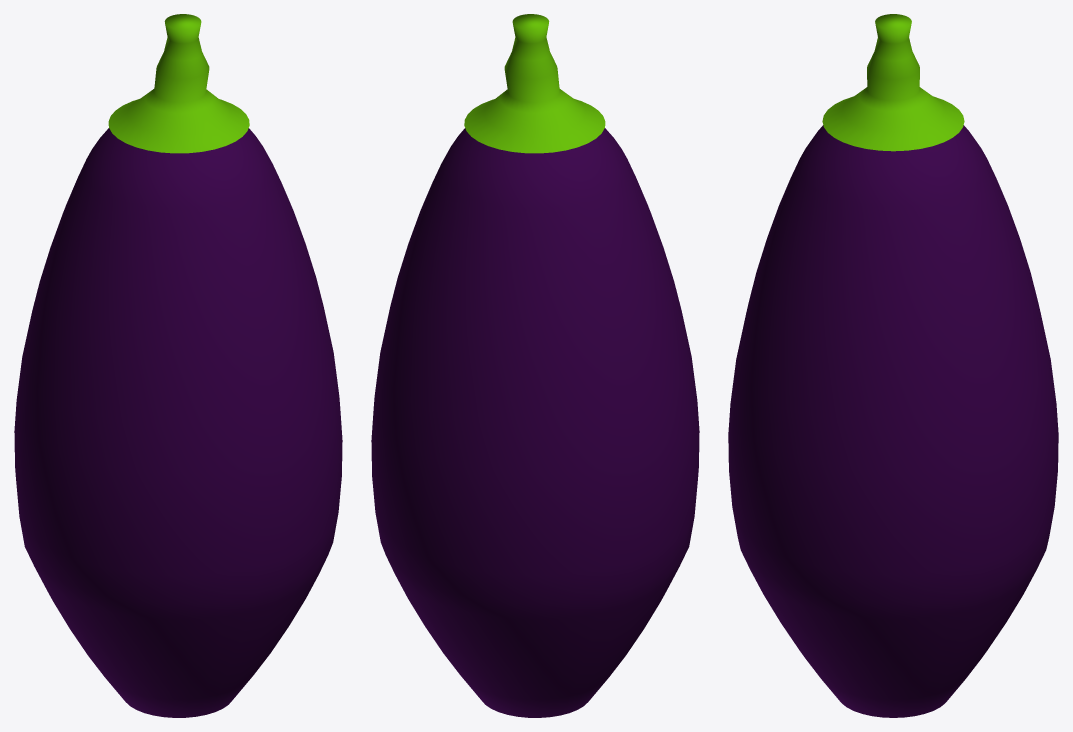
Rendered from Aubergine.fbx.
3 renders of one model, left to right at view 1: azimuth 30°, elevation 25°; view 2: azimuth 150°, elevation 25°; view 3: azimuth 270°, elevation 25°, orthographic.
Parts seen in each view (by area): view 1: Aubergine; view 2: Aubergine; view 3: Aubergine.
Part boxes in pixels (<box>): Aubergine: <box>14,14,342,717</box>; Aubergine: <box>371,14,699,717</box>; Aubergine: <box>728,14,1058,717</box>.
Size of the model in its own units: 405 by 926 by 405.
